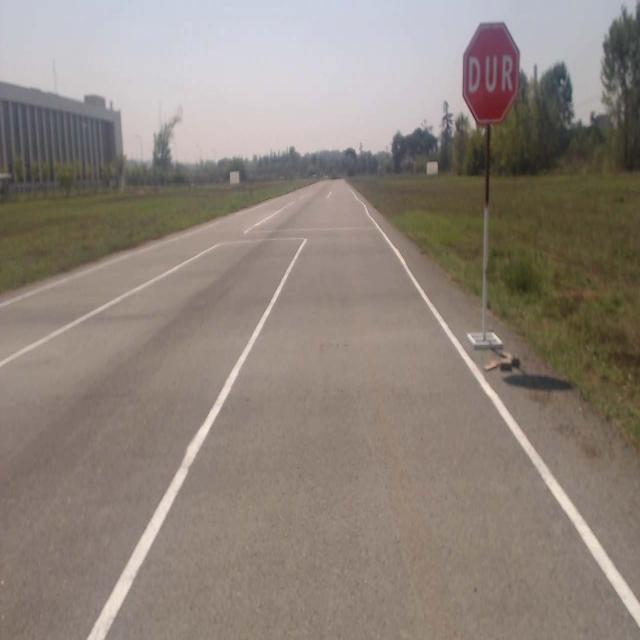dur: (462, 23, 516, 122)
